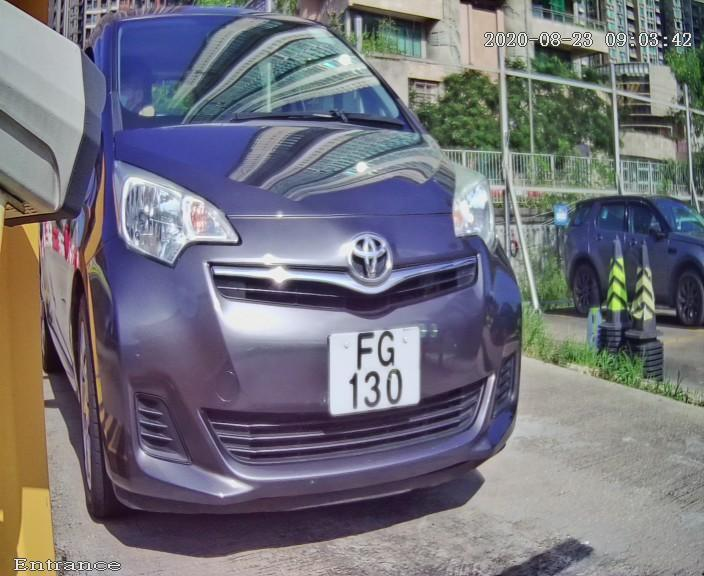Car: (4, 1, 566, 571)
License Plate: (321, 314, 428, 430)
